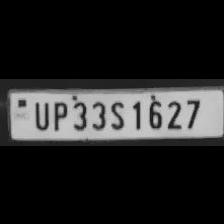1: (126, 97, 144, 130)
2: (164, 96, 184, 130)
3: (88, 97, 108, 129), (70, 97, 89, 130)
6: (144, 97, 164, 129)
7: (182, 96, 202, 128)
P: (49, 98, 69, 130)
S: (107, 97, 127, 130)
U: (30, 97, 50, 129)
